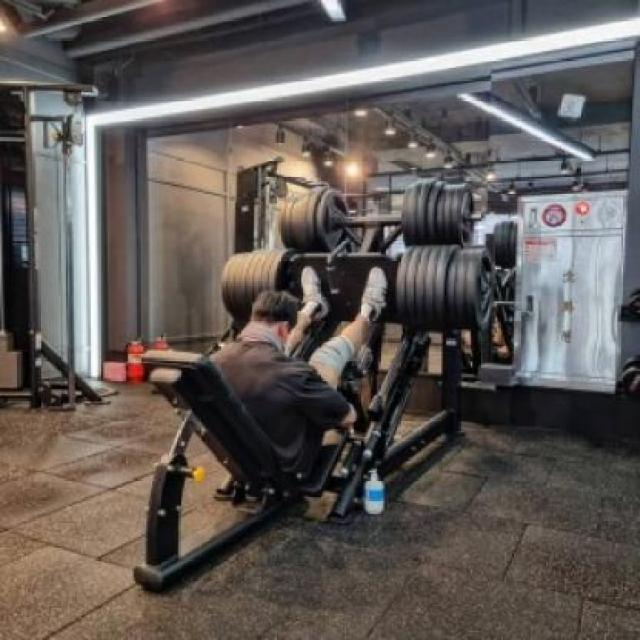leg press: (60, 137, 538, 600)
